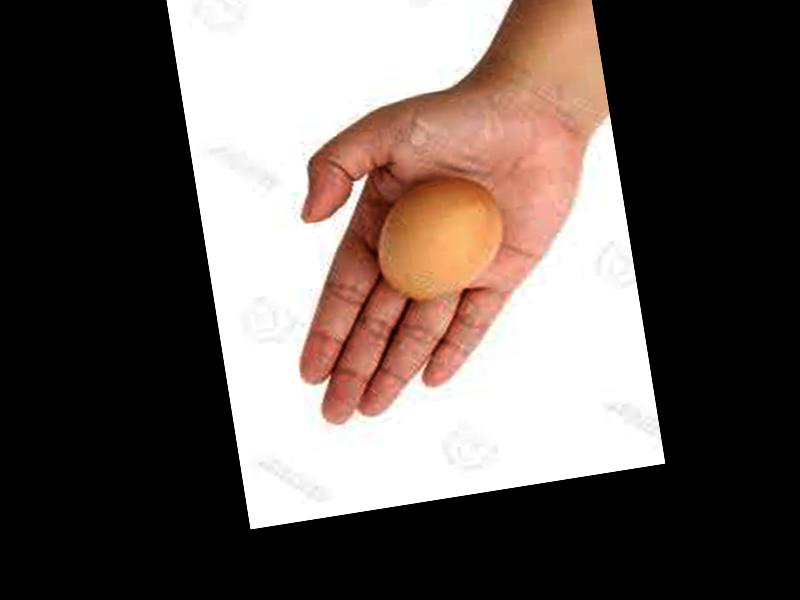Eggs: (368, 168, 511, 303)
